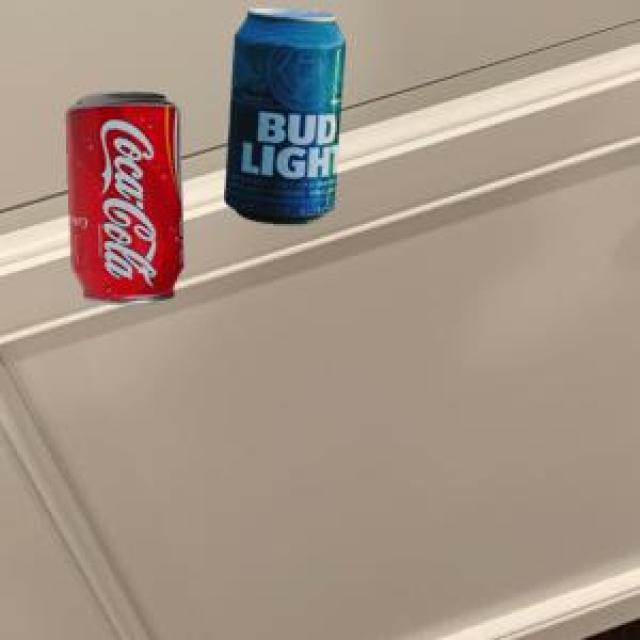Can: (223, 5, 342, 221), (63, 91, 180, 300)
